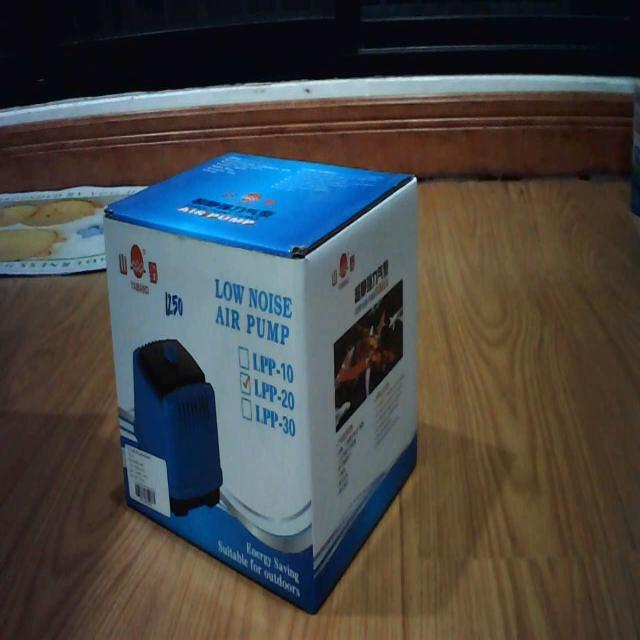YAMANO_LPP_20: (94, 128, 442, 626)
